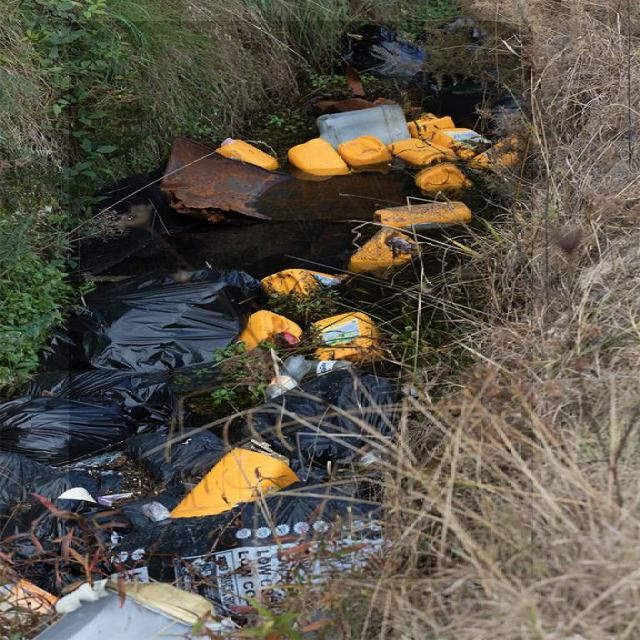dumping: (69, 21, 533, 579)
